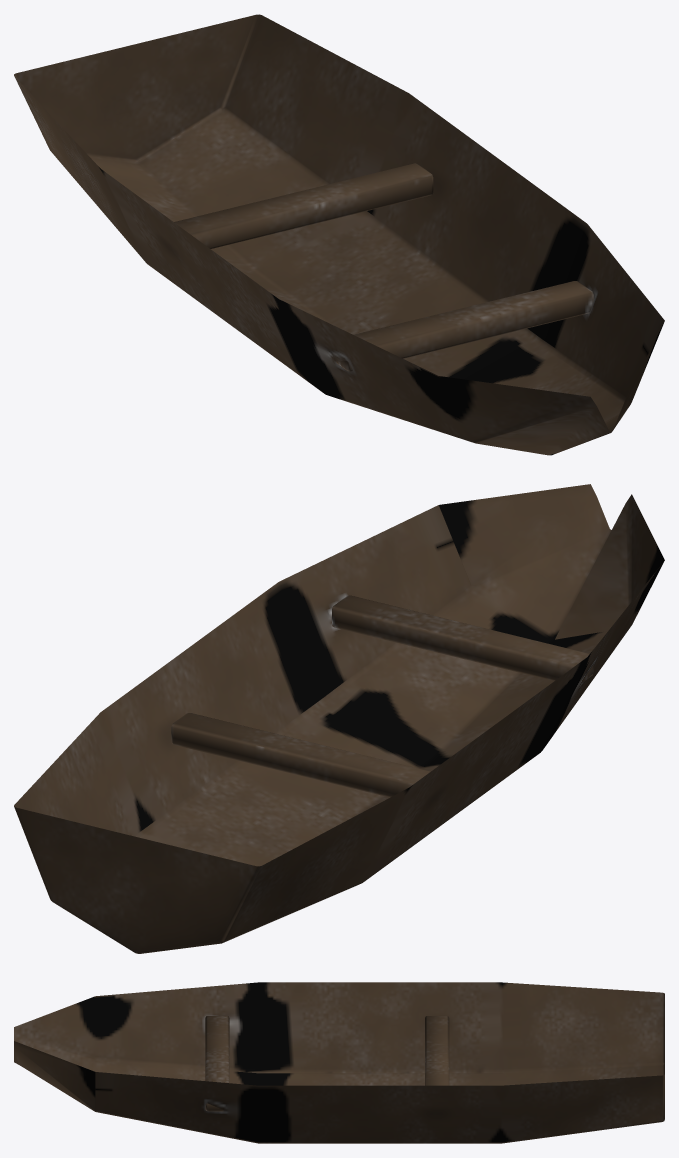
Rendered from Prop_Bote.fbx.
3 views of the same model, one above another, from view 1: azimuth 30°, elevation 25°; view 2: azimuth 150°, elevation 25°; view 3: azimuth 270°, elevation 25° (orthographic). The views are drawn at different scales.
Parts seen in each view (by area): view 1: Prop_Bote; view 2: Prop_Bote; view 3: Prop_Bote.
Boxes of the visible parts, box(x1,y1,x2,y2) form: Prop_Bote: box(14, 14, 664, 455); Prop_Bote: box(14, 484, 664, 953); Prop_Bote: box(14, 982, 664, 1143).
Size of the model in its own units: 3 by 1.3 by 8.
